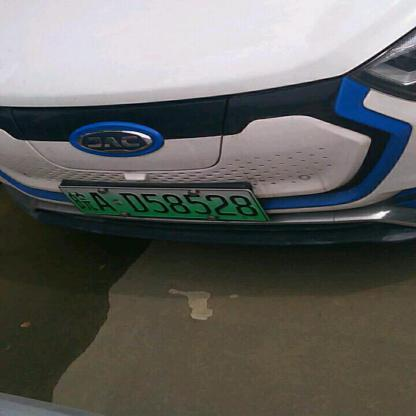lp: (58, 185, 84, 220)
